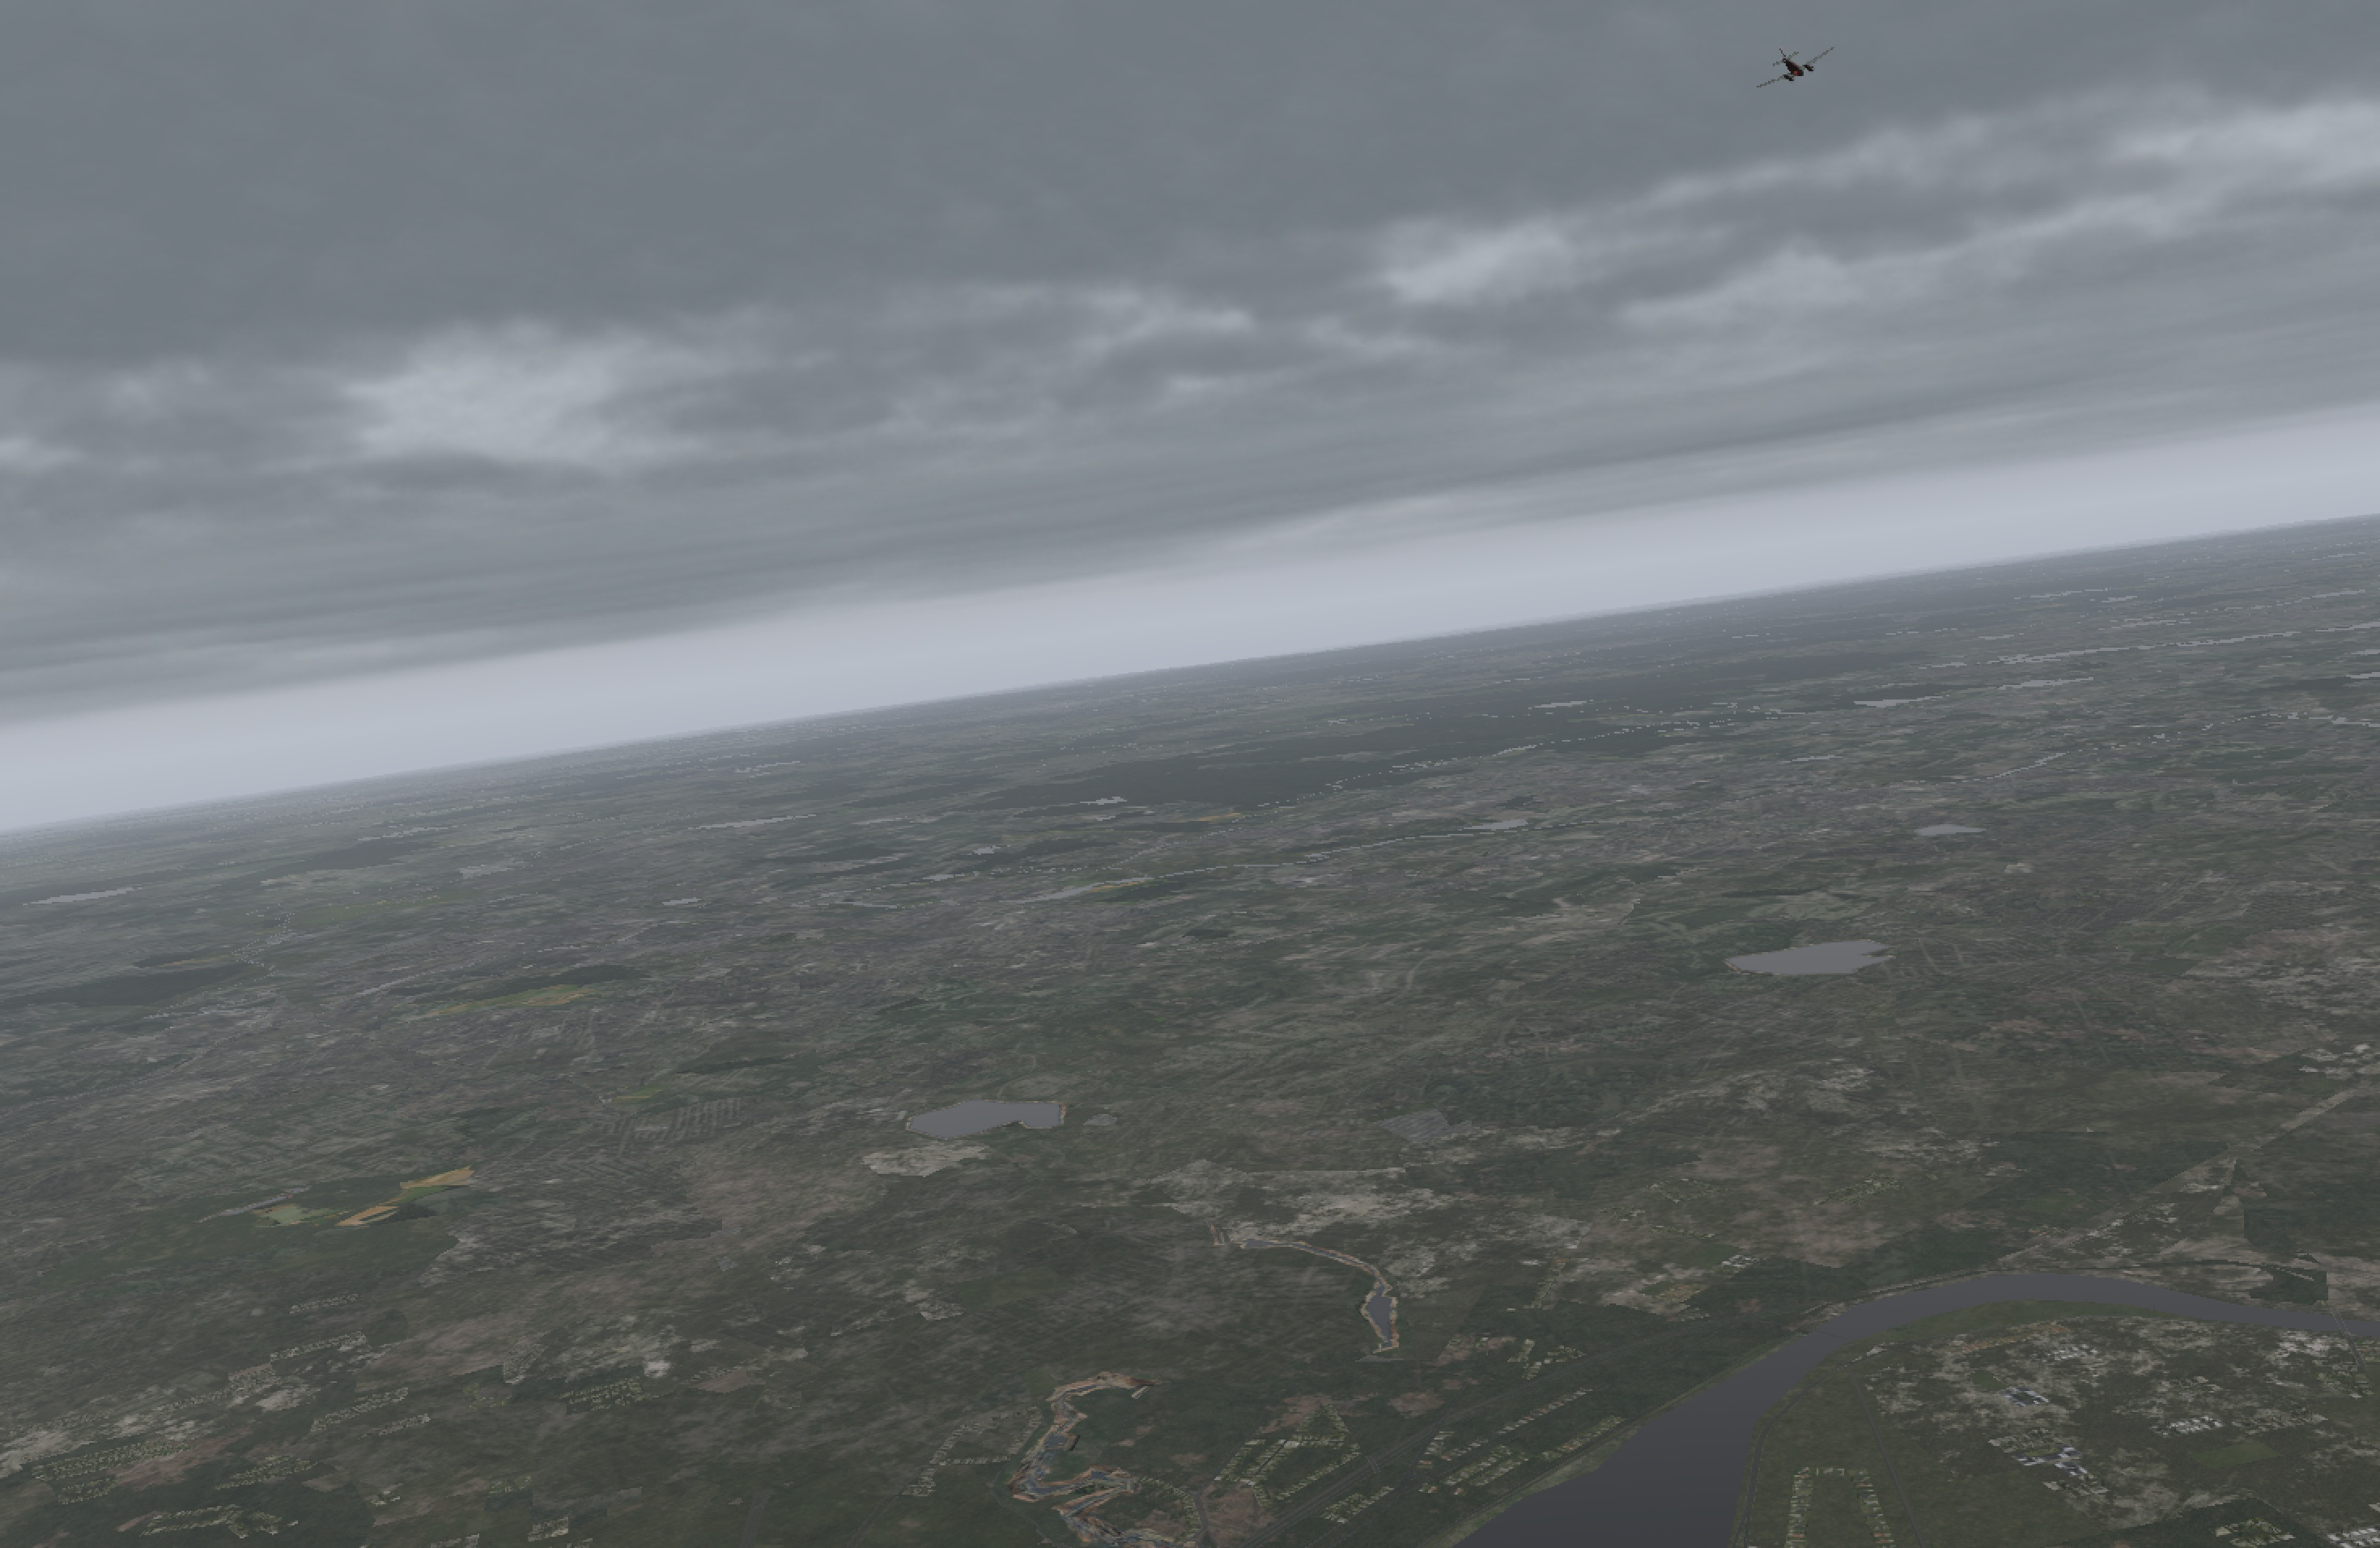aircraft: (1759, 59, 1835, 87)
